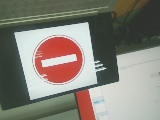stop: (31, 32, 89, 89)
